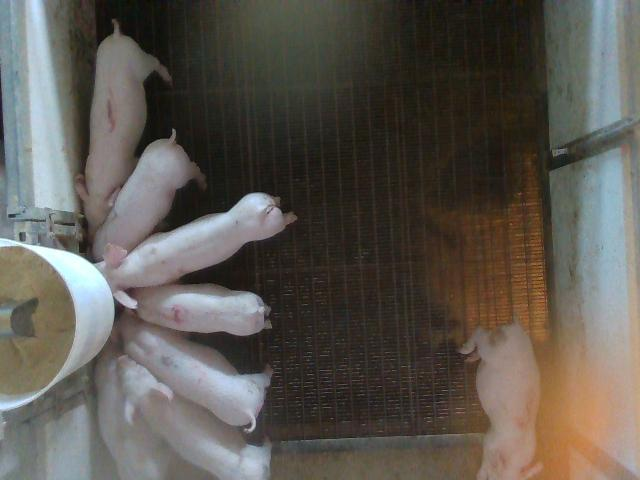pig-1: (74, 20, 171, 242)
pig-3: (459, 322, 541, 478)
pig-4: (129, 284, 271, 336)
